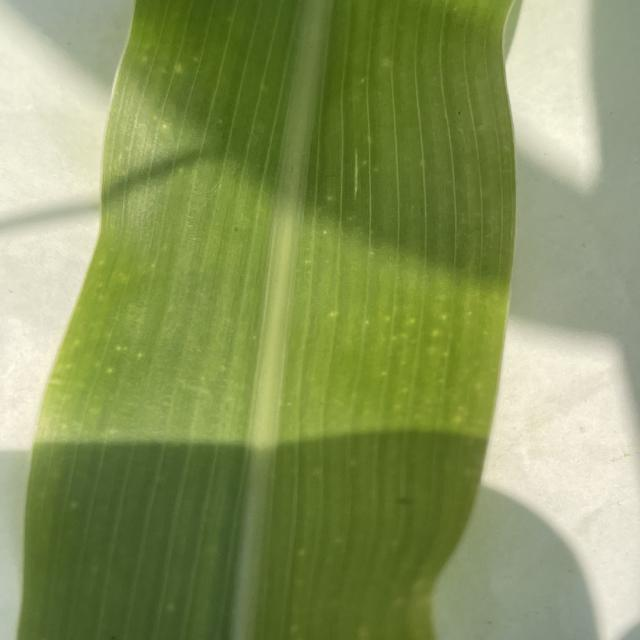millet_healthy: (19, 0, 510, 640)
